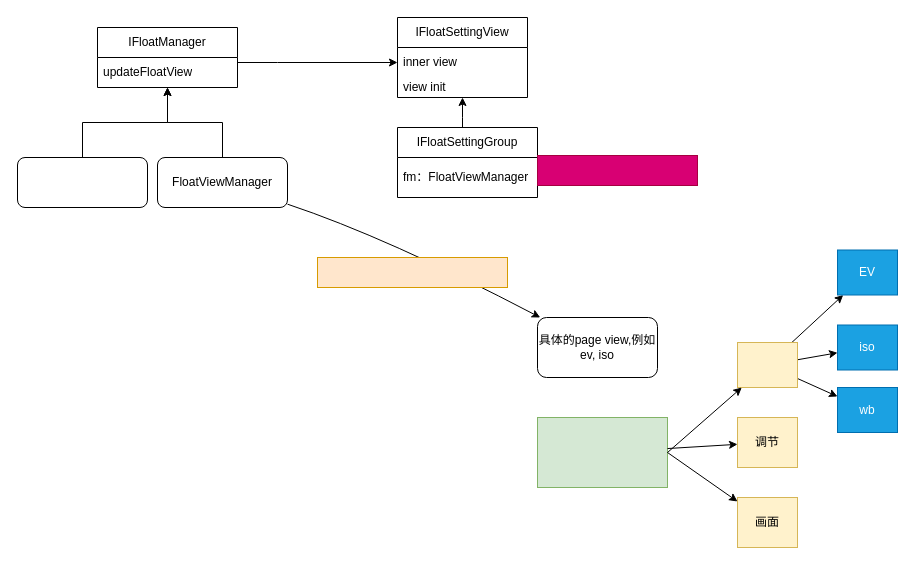
Image size: 915x565. Some labels were removed from this diagram. The shapes that lost their labels are listed below. From the top down, each one's centre as x and y in pixels, then its label:
the point at 82,182: FloatWindowManager
the point at 617,170: 特性，能切换自己的内容
the point at 412,272: updateFloatView(初始化、添加)
the point at 767,365: 专业
the point at 602,452: FloatRegulateView
